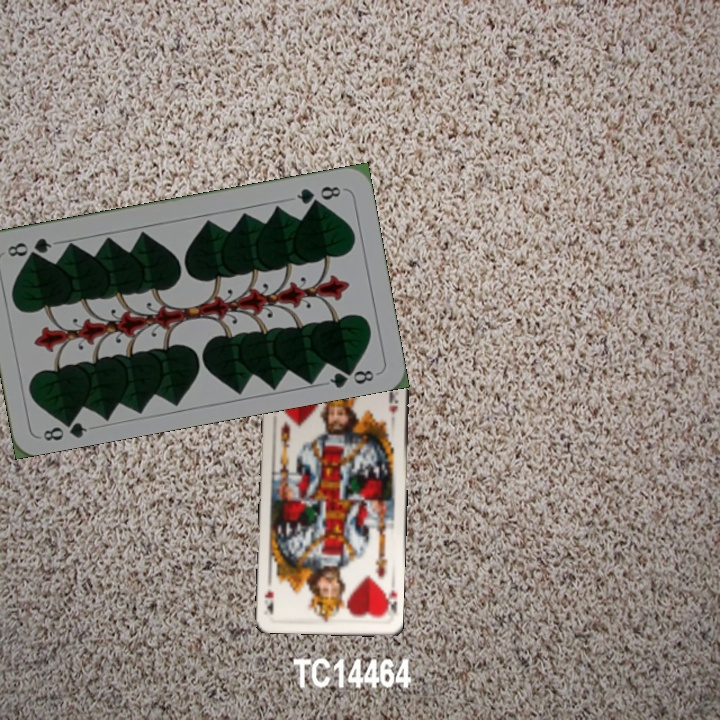G8: (39, 412, 90, 444), (292, 182, 344, 207)
HK: (379, 584, 399, 620)
